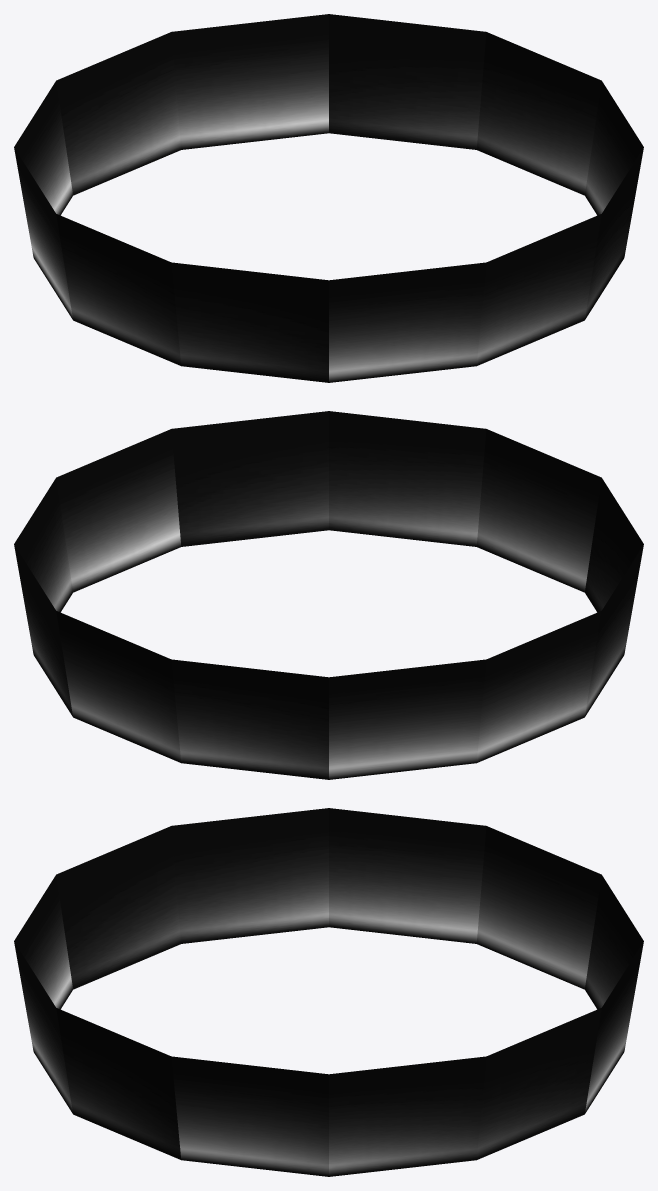
The model's file is 0490_yinquan.glb.
3 renders of one model, top to bottom at view 1: azimuth 30°, elevation 25°; view 2: azimuth 150°, elevation 25°; view 3: azimuth 270°, elevation 25°, orthographic.
Size of the model in its own units: 2.2 by 0.4276 by 2.2.
Materials: 1 (1 with a texture image).
